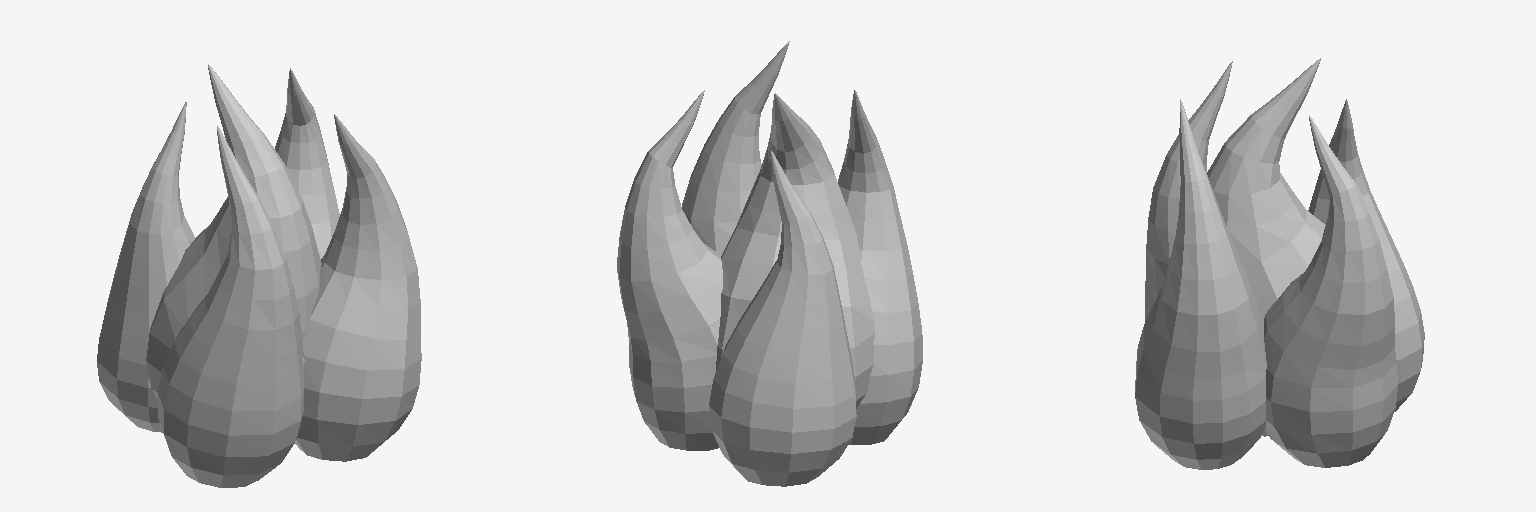
Rendered from fire_000047.obj.
The picture shows the model from 3 angles: view 1: azimuth 30°, elevation 25°; view 2: azimuth 150°, elevation 25°; view 3: azimuth 270°, elevation 25°; orthographic projection.
Visible parts, largest first — view 1: flame_NurbsPath.015; view 2: flame_NurbsPath.015; view 3: flame_NurbsPath.015.
Part boxes in pixels (bbox=[...]): flame_NurbsPath.015: bbox=[97, 64, 421, 487]; flame_NurbsPath.015: bbox=[617, 41, 922, 486]; flame_NurbsPath.015: bbox=[1135, 58, 1424, 469].
Size of the model in its own units: 0.7647 by 1.13 by 0.804.